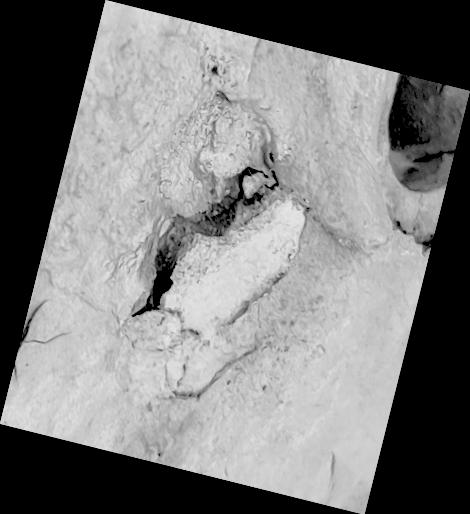crack: (1, 0, 470, 514)
